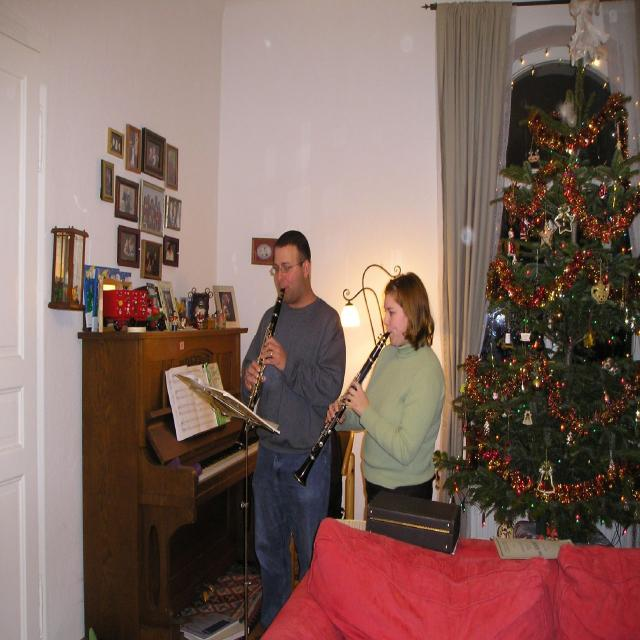clarinet: (294, 330, 392, 492), (232, 289, 287, 451)
